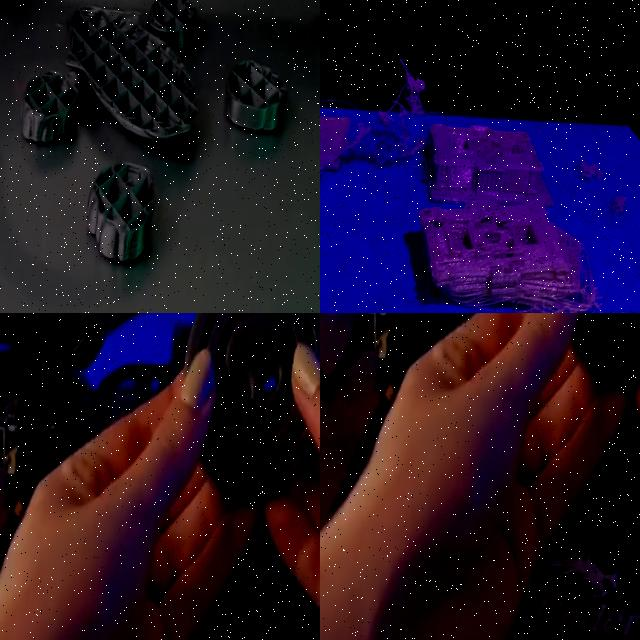spaghetti: (320, 52, 437, 178), (498, 233, 640, 313), (566, 148, 640, 228)
